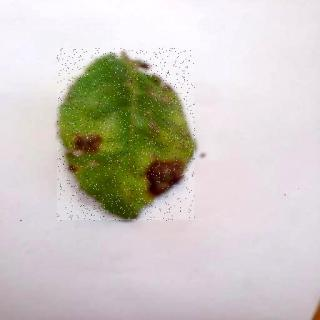Algal Leaf: (59, 50, 197, 222)
